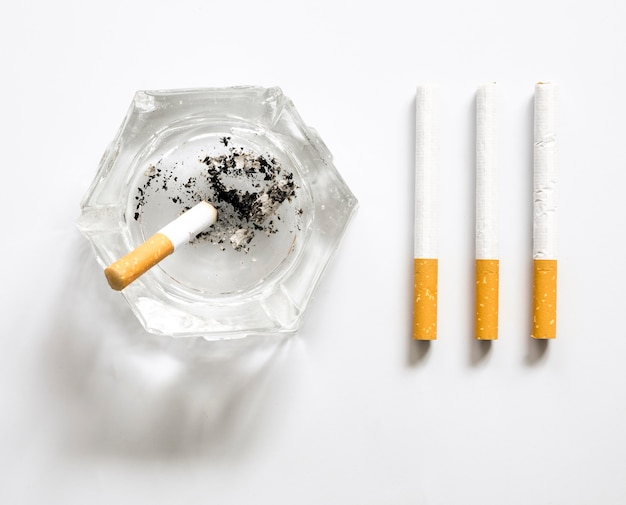cigarette: (105, 198, 219, 288), (410, 84, 441, 343), (529, 77, 558, 342), (472, 81, 501, 343)
